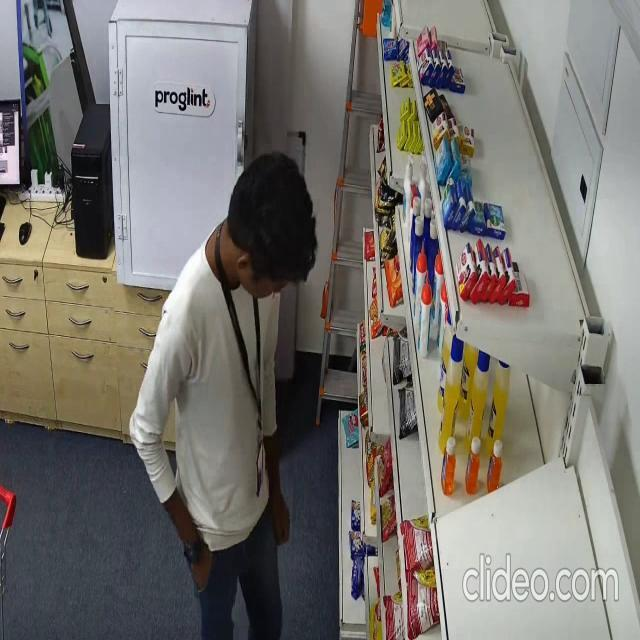Shoplifting: (128, 153, 314, 640)
